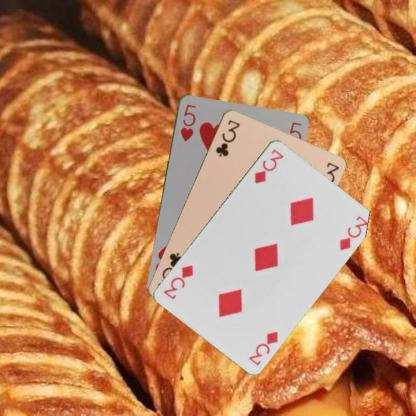3c: (213, 116, 241, 158)
3d: (251, 146, 285, 186), (246, 328, 279, 367)
5h: (178, 102, 196, 142)
